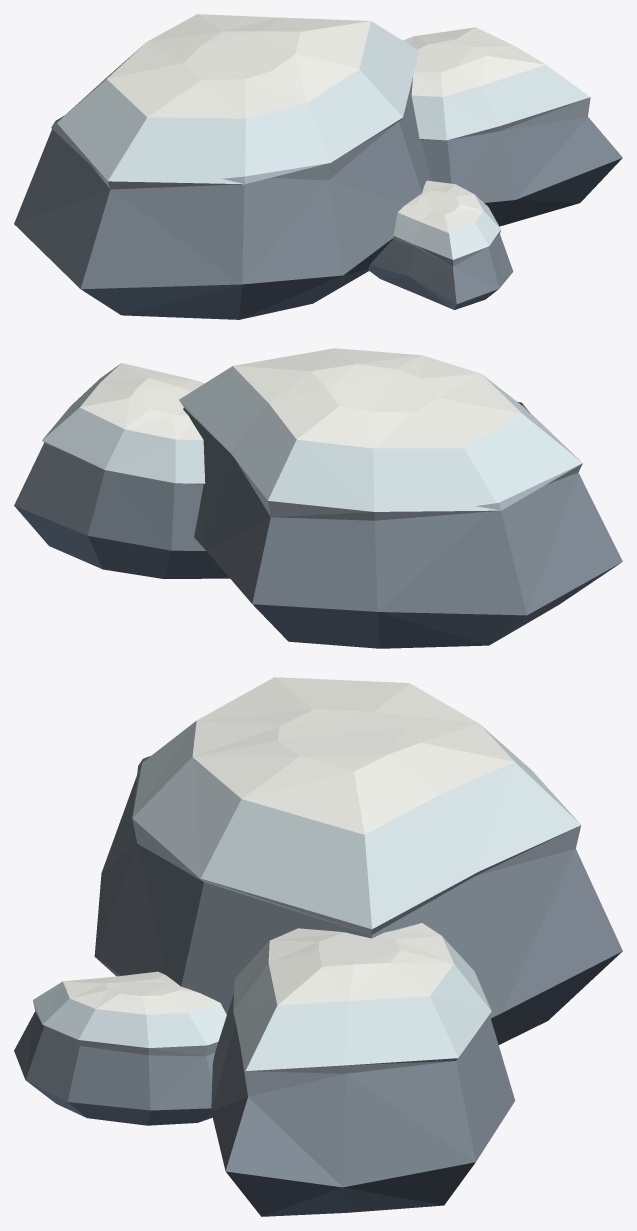
File: RockCluster.fbx
3 renders of one model, top to bottom at view 1: azimuth 30°, elevation 25°; view 2: azimuth 150°, elevation 25°; view 3: azimuth 270°, elevation 25°, orthographic. The views are drawn at different scales.
Visible parts, largest first — view 1: RockCluster; view 2: RockCluster; view 3: RockCluster.
Part boxes in pixels (bbox=[...]): RockCluster: bbox=[14, 14, 622, 319]; RockCluster: bbox=[14, 348, 622, 648]; RockCluster: bbox=[14, 677, 622, 1216].
Size of the model in its own units: 3.35 by 1.22 by 2.39.
Materials: 1 (1 with a texture image).
